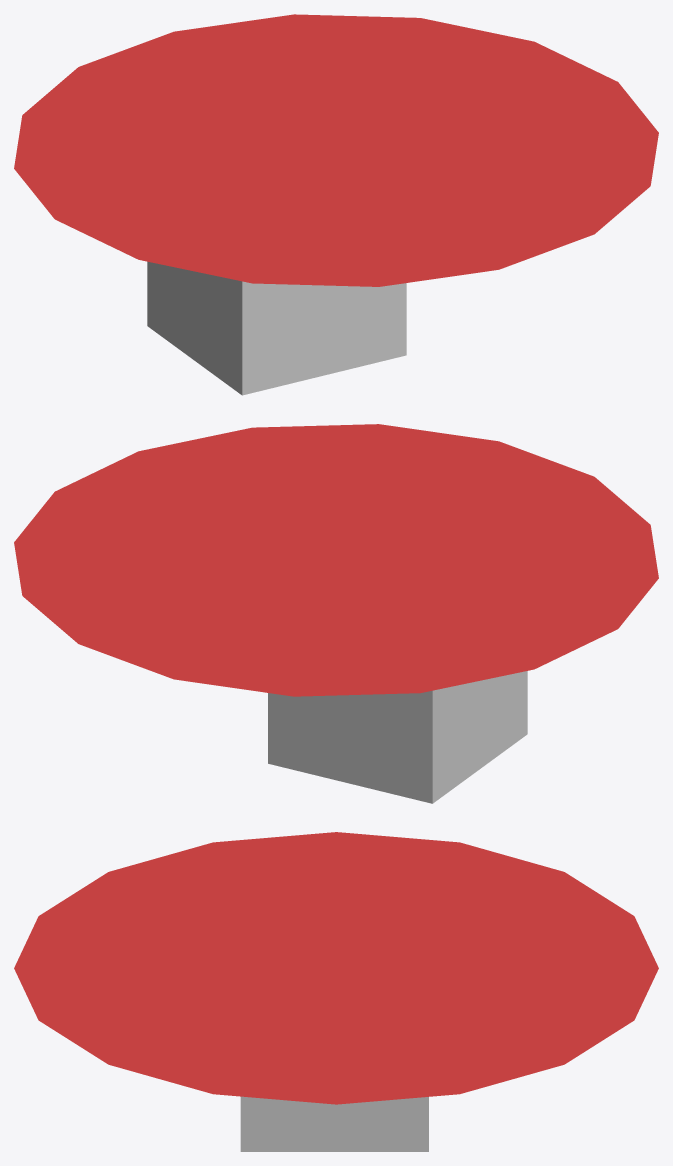
The picture shows the model from 3 angles, top to bottom: view 1: azimuth 30°, elevation 25°; view 2: azimuth 150°, elevation 25°; view 3: azimuth 270°, elevation 25°; orthographic projection.
Visible parts, largest first — view 1: Disc, Cube; view 2: Disc, Cube; view 3: Disc, Cube.
Part boxes in pixels (x1=…): Disc: x1=14, y1=14, x2=658, y2=286; Cube: x1=147, y1=261, x2=406, y2=395; Disc: x1=14, y1=424, x2=658, y2=696; Cube: x1=268, y1=671, x2=527, y2=803; Disc: x1=14, y1=832, x2=658, y2=1104; Cube: x1=240, y1=1096, x2=428, y2=1151.
Size of the model in its own units: 685 by 203 by 685.
